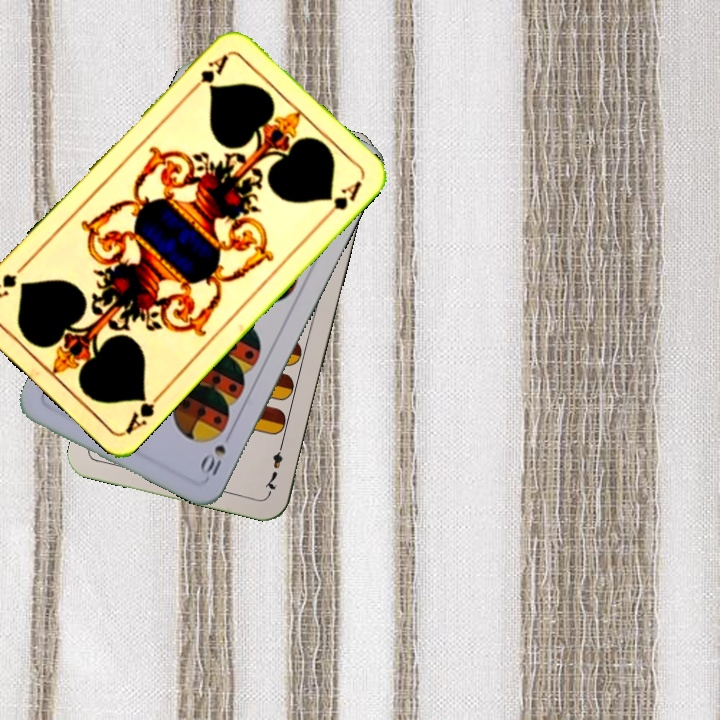E7: (260, 438, 287, 496)
GA: (121, 387, 167, 437), (185, 50, 231, 96)
S10: (197, 440, 229, 481)
